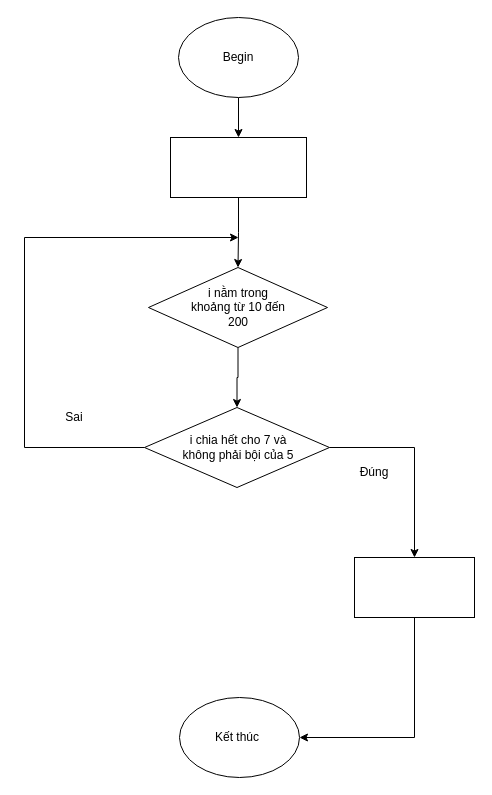
Image size: 492x795. Some labels were removed from this diagram. The shapes that lost their labels are listed below. From the top down, each one's centre as x and y in pixels, then its label:
[238,167]: khai báo list rỗng list=[]
[414,587]: thêm giá trị i vào list
